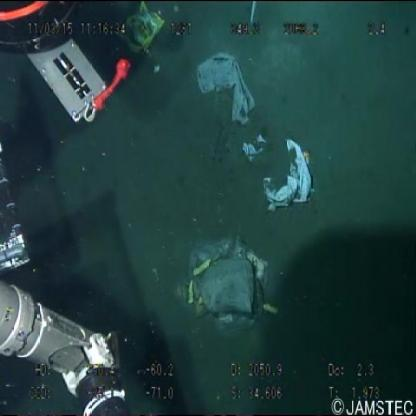Rov: (1, 275, 131, 416), (1, 1, 132, 126)
Rác: (240, 129, 321, 214), (192, 51, 258, 129), (124, 1, 165, 60)
